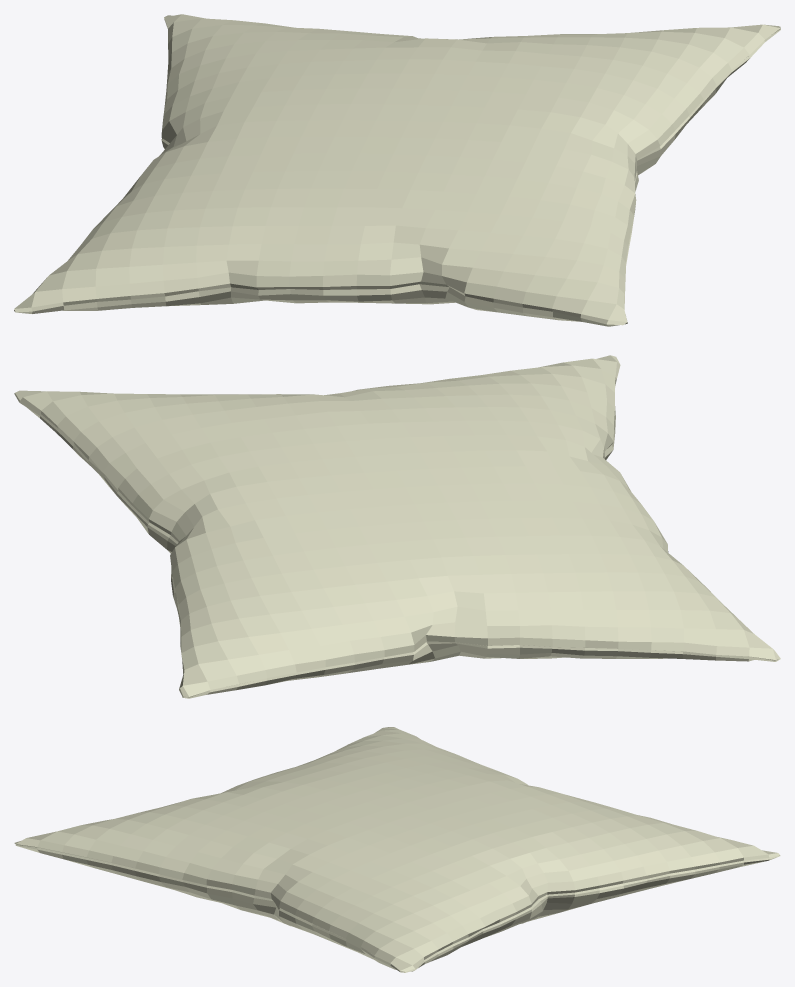
The model's file is Pillow Assessment.fbx.
3 views of the same model, one above another, from view 1: azimuth 30°, elevation 25°; view 2: azimuth 150°, elevation 25°; view 3: azimuth 270°, elevation 25° (orthographic). The views are drawn at different scales.
Parts seen in each view (by area): view 1: Plane; view 2: Plane; view 3: Plane.
Boxes of the visible parts, x1,y1,x2,y2 form: Plane: (14,14,780,326); Plane: (14,355,780,698); Plane: (14,727,780,972).
Bounding box in the file's own units: 170 × 25.48 × 171.
